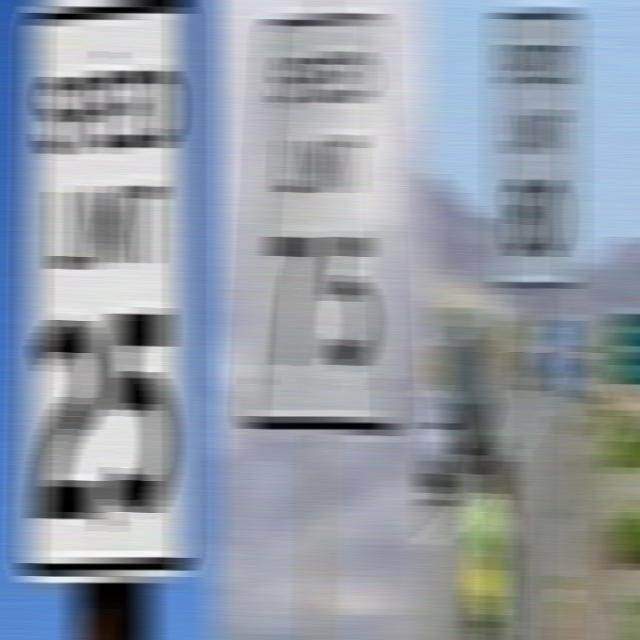speedLimit25: (19, 10, 196, 572)
speedLimit75: (240, 6, 413, 429)
speedLimit80: (488, 13, 582, 288)
